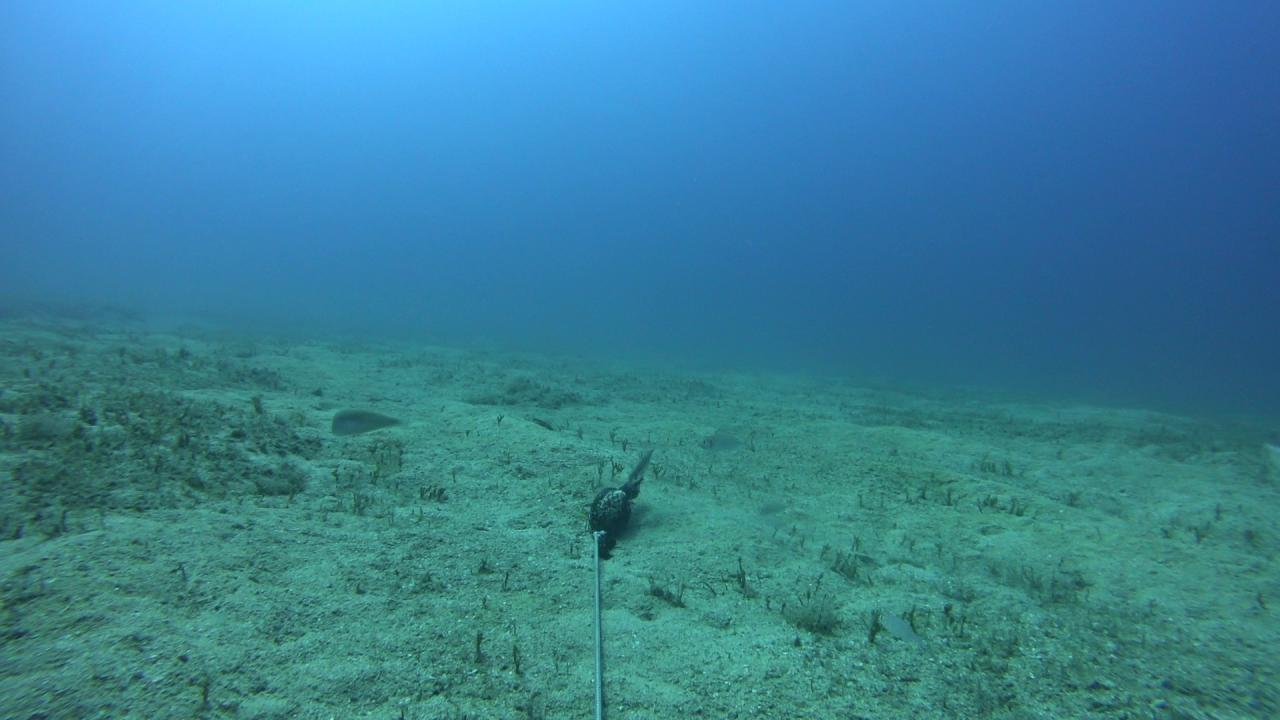pagellus: (881, 614, 927, 646), (699, 429, 755, 454), (625, 449, 656, 484), (760, 502, 789, 520)
raor: (332, 408, 402, 440)
